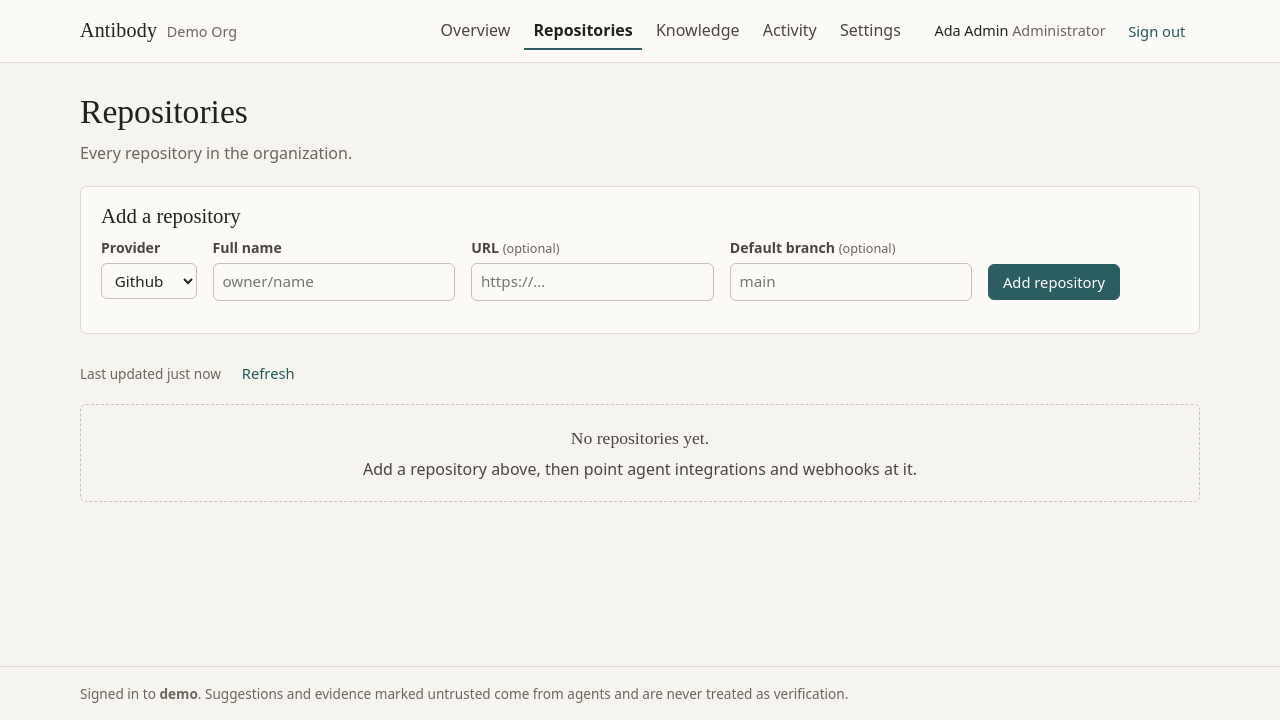
it: route states › returns to the sign-in page when the session expires mid-use
The width and height of the screenshot is (1280, 720).
Expected: the text "No repositories yet." is shown, [571,428,709,448]
Step 1. Click the button with aria-label "Refresh repositories" → (268, 373), box [233,358,304,388]
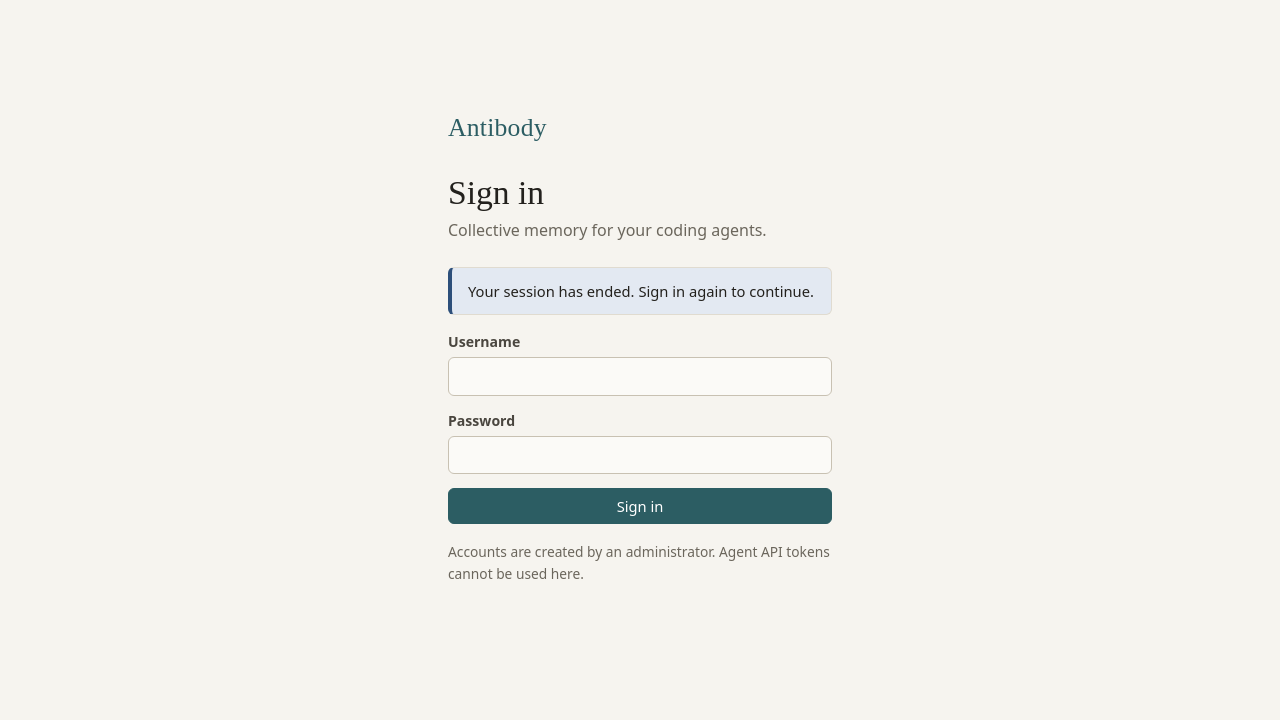
Now the heading "Sign in" is shown, box [448,174,544,211]
Now the text "Your session has ended. Sign in again to continue." is shown, box [448,267,832,315]
